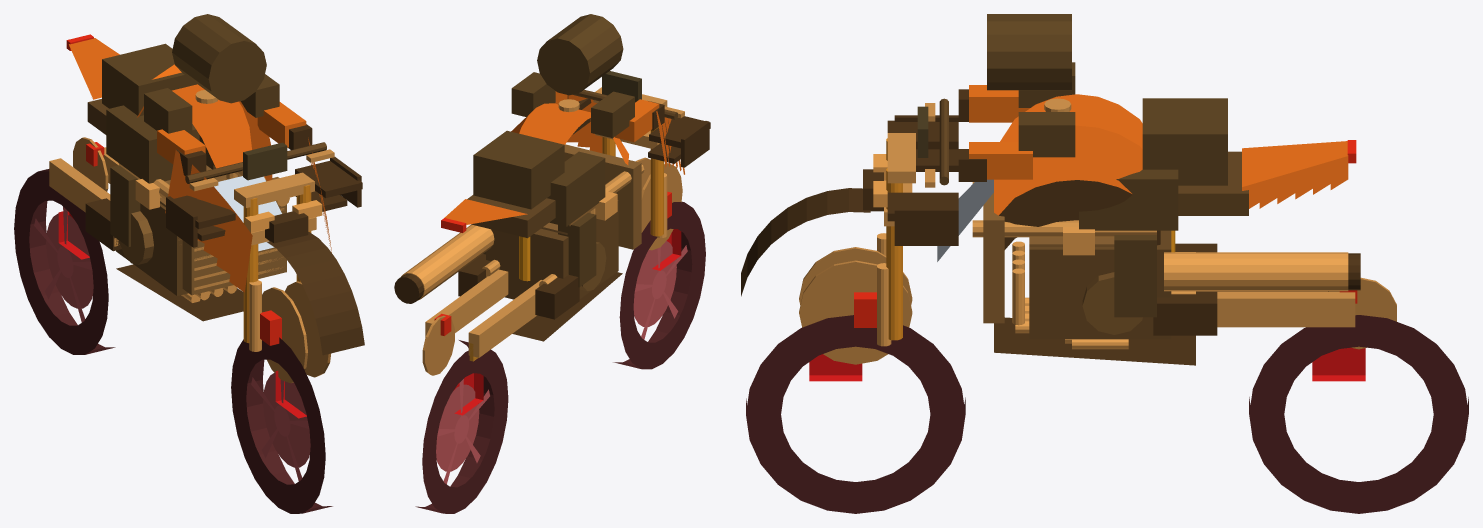
File: hypersport_rr1000_lod0.glb
The picture shows the model from 3 angles, left to right: view 1: azimuth 30°, elevation 25°; view 2: azimuth 150°, elevation 25°; view 3: azimuth 270°, elevation 25°; orthographic projection. The views are drawn at different scales.
Parts seen in each view (by area): view 1: Motorcycle_Body, Wheel_Front, Wheel_Rear, Windscreen; view 2: Motorcycle_Body, Wheel_Rear, Wheel_Front; view 3: Motorcycle_Body, Wheel_Rear, Wheel_Front, Windscreen.
Part boxes in pixels (x1=…): Motorcycle_Body: x1=49, y1=14, x2=364, y2=383; Wheel_Front: x1=231, y1=337, x2=332, y2=513; Wheel_Rear: x1=14, y1=169, x2=115, y2=354; Windscreen: x1=214, y1=176, x2=281, y2=251; Motorcycle_Body: x1=394, y1=14, x2=710, y2=375; Wheel_Rear: x1=415, y1=340, x2=508, y2=513; Wheel_Front: x1=613, y1=201, x2=705, y2=369; Motorcycle_Body: x1=741, y1=14, x2=1396, y2=365; Wheel_Rear: x1=1249, y1=315, x2=1468, y2=513; Wheel_Front: x1=746, y1=315, x2=965, y2=513; Windscreen: x1=937, y1=179, x2=993, y2=261.
Size of the model in its own units: 0.636 by 1.52 by 2.05.
